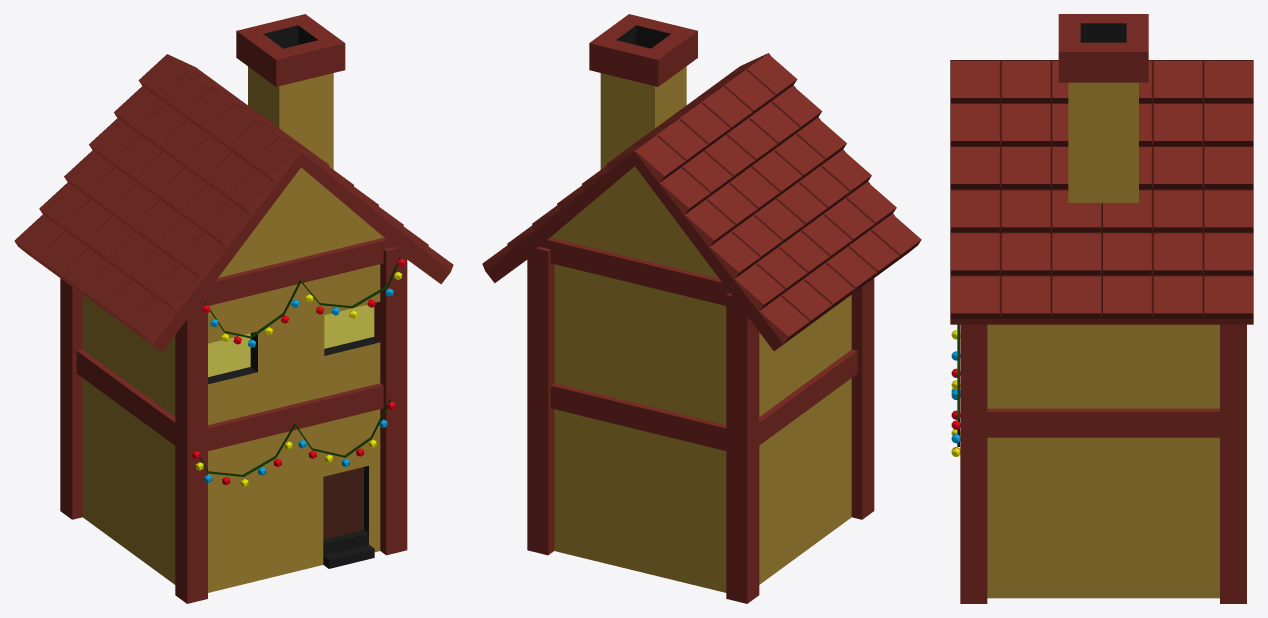
The model's file is casa.fbx.
3 renders of one model, left to right at view 1: azimuth 30°, elevation 25°; view 2: azimuth 150°, elevation 25°; view 3: azimuth 270°, elevation 25°, orthographic. The views are drawn at different scales.
Parts seen in each view (by area): view 1: Cube, Plane.000, Plane.001; view 2: Cube; view 3: Cube, Plane.000.
Boxes of the visible parts, box(x1,y1,x2,y2) form: Cube: box(14, 14, 453, 603); Plane.000: box(192, 399, 395, 487); Plane.001: box(202, 258, 405, 347); Cube: box(482, 14, 921, 603); Cube: box(950, 14, 1253, 603); Plane.000: box(951, 324, 960, 456).
Bounding box in the file's own units: 308 × 460 × 234.
